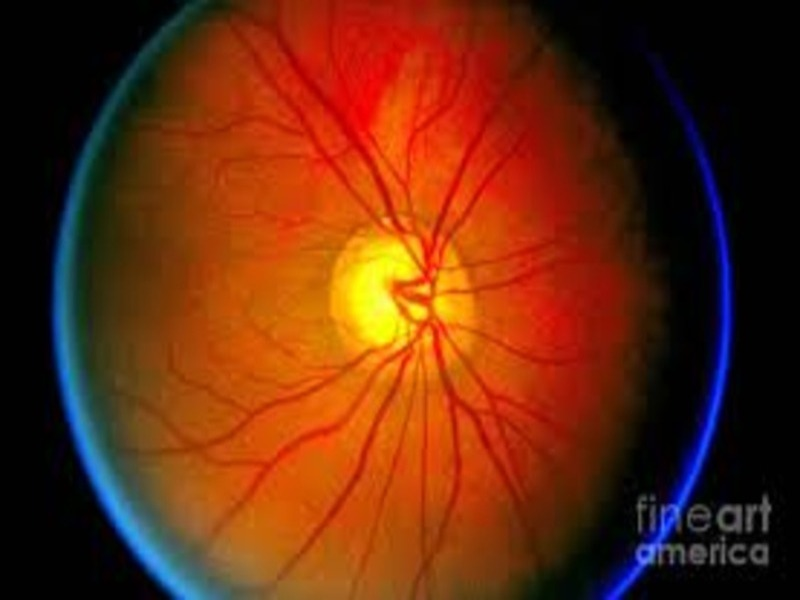Optic Cup: (350, 245, 441, 343)
Optic Disc: (323, 214, 480, 382)
